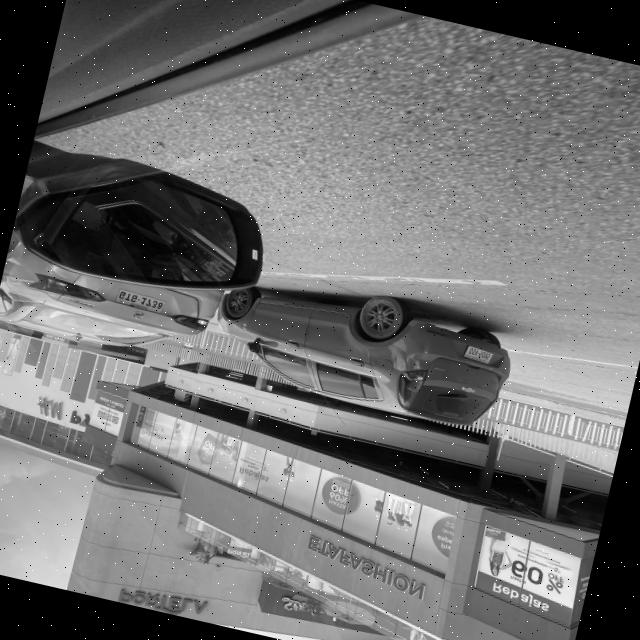Placa: (116, 289, 165, 312), (464, 346, 493, 362)
